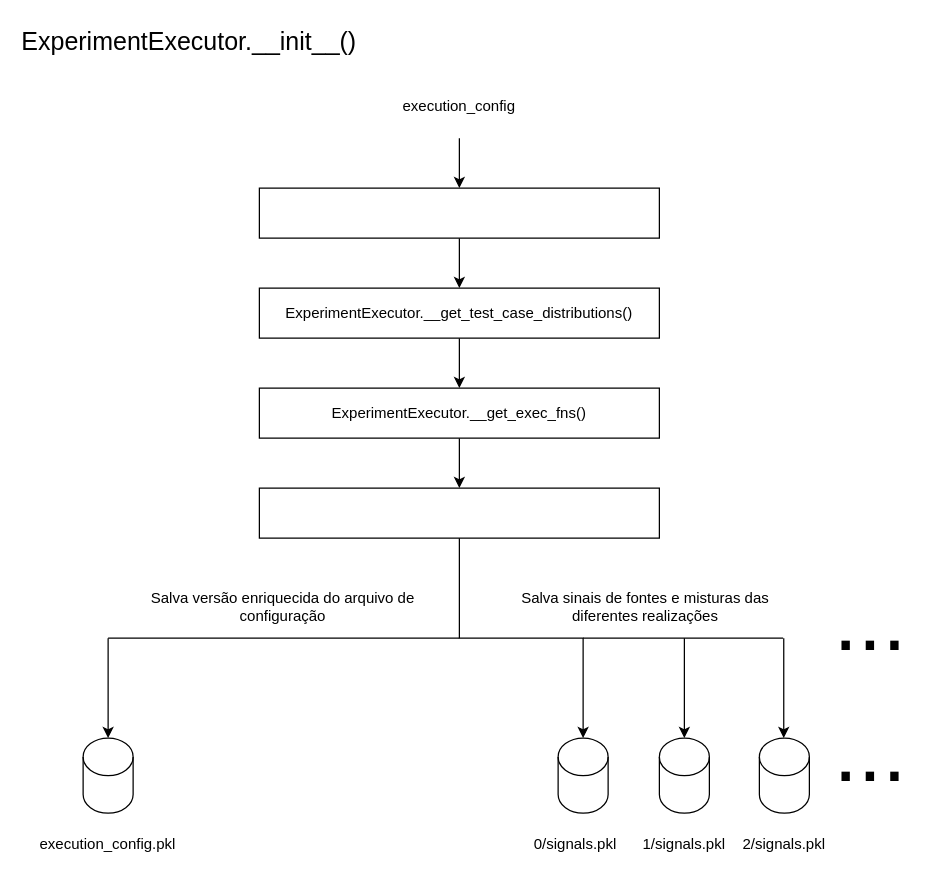
Image size: 929x884. Some labels were removed from this diagram. The shapes that lost their labels are listed below. From the top down, each one's centre as x and y in pixels, then its label:
At (x=458, y=212): "ExperimentExecutor.__initialize_signals()".
At (x=458, y=512): "ExperimentExecutor.__save_initializations()".
